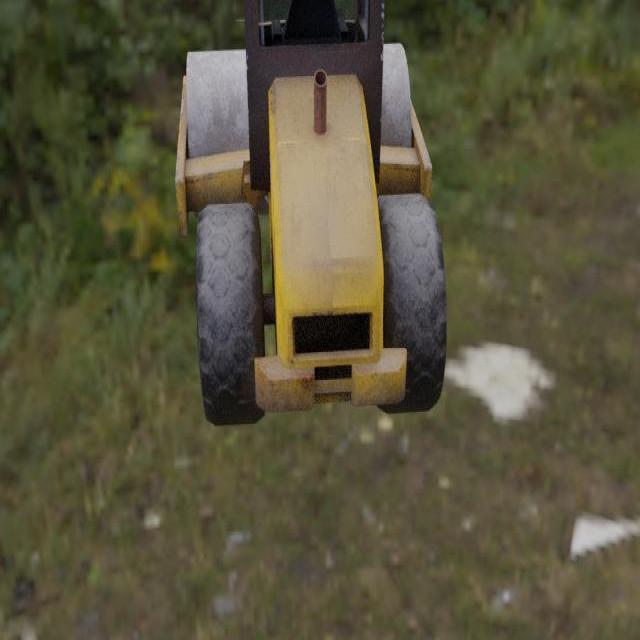Roller: (174, 0, 447, 428)
